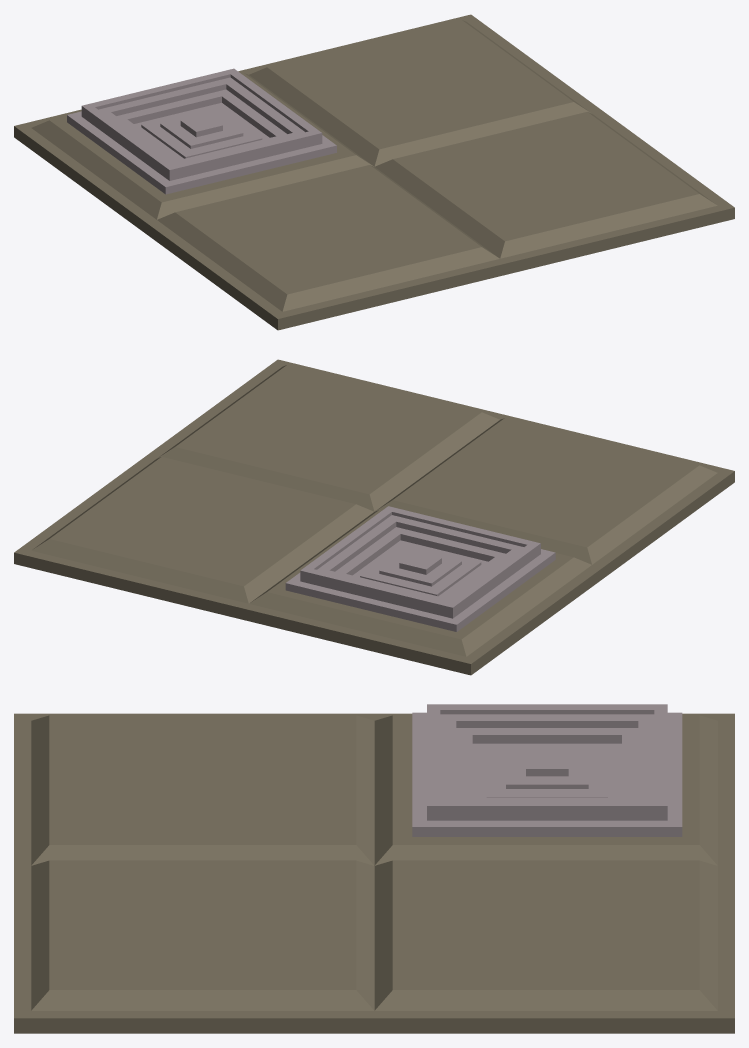
File: SM_roof_tile_01.fbx
3 views of the same model, one above another, from view 1: azimuth 30°, elevation 25°; view 2: azimuth 150°, elevation 25°; view 3: azimuth 270°, elevation 25° (orthographic). The views are drawn at different scales.
Parts seen in each view (by area): view 1: roof_tile_01; view 2: roof_tile_01; view 3: roof_tile_01.
Part boxes in pixels (x1=…): roof_tile_01: x1=14, y1=14, x2=734, y2=330; roof_tile_01: x1=14, y1=359, x2=734, y2=675; roof_tile_01: x1=14, y1=704, x2=734, y2=1033.
Size of the model in its own units: 210 by 17.21 by 210.
